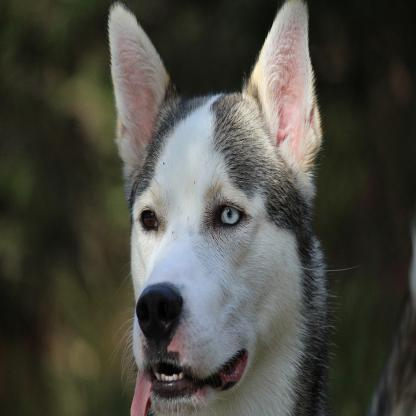dog: (104, 6, 321, 405)
